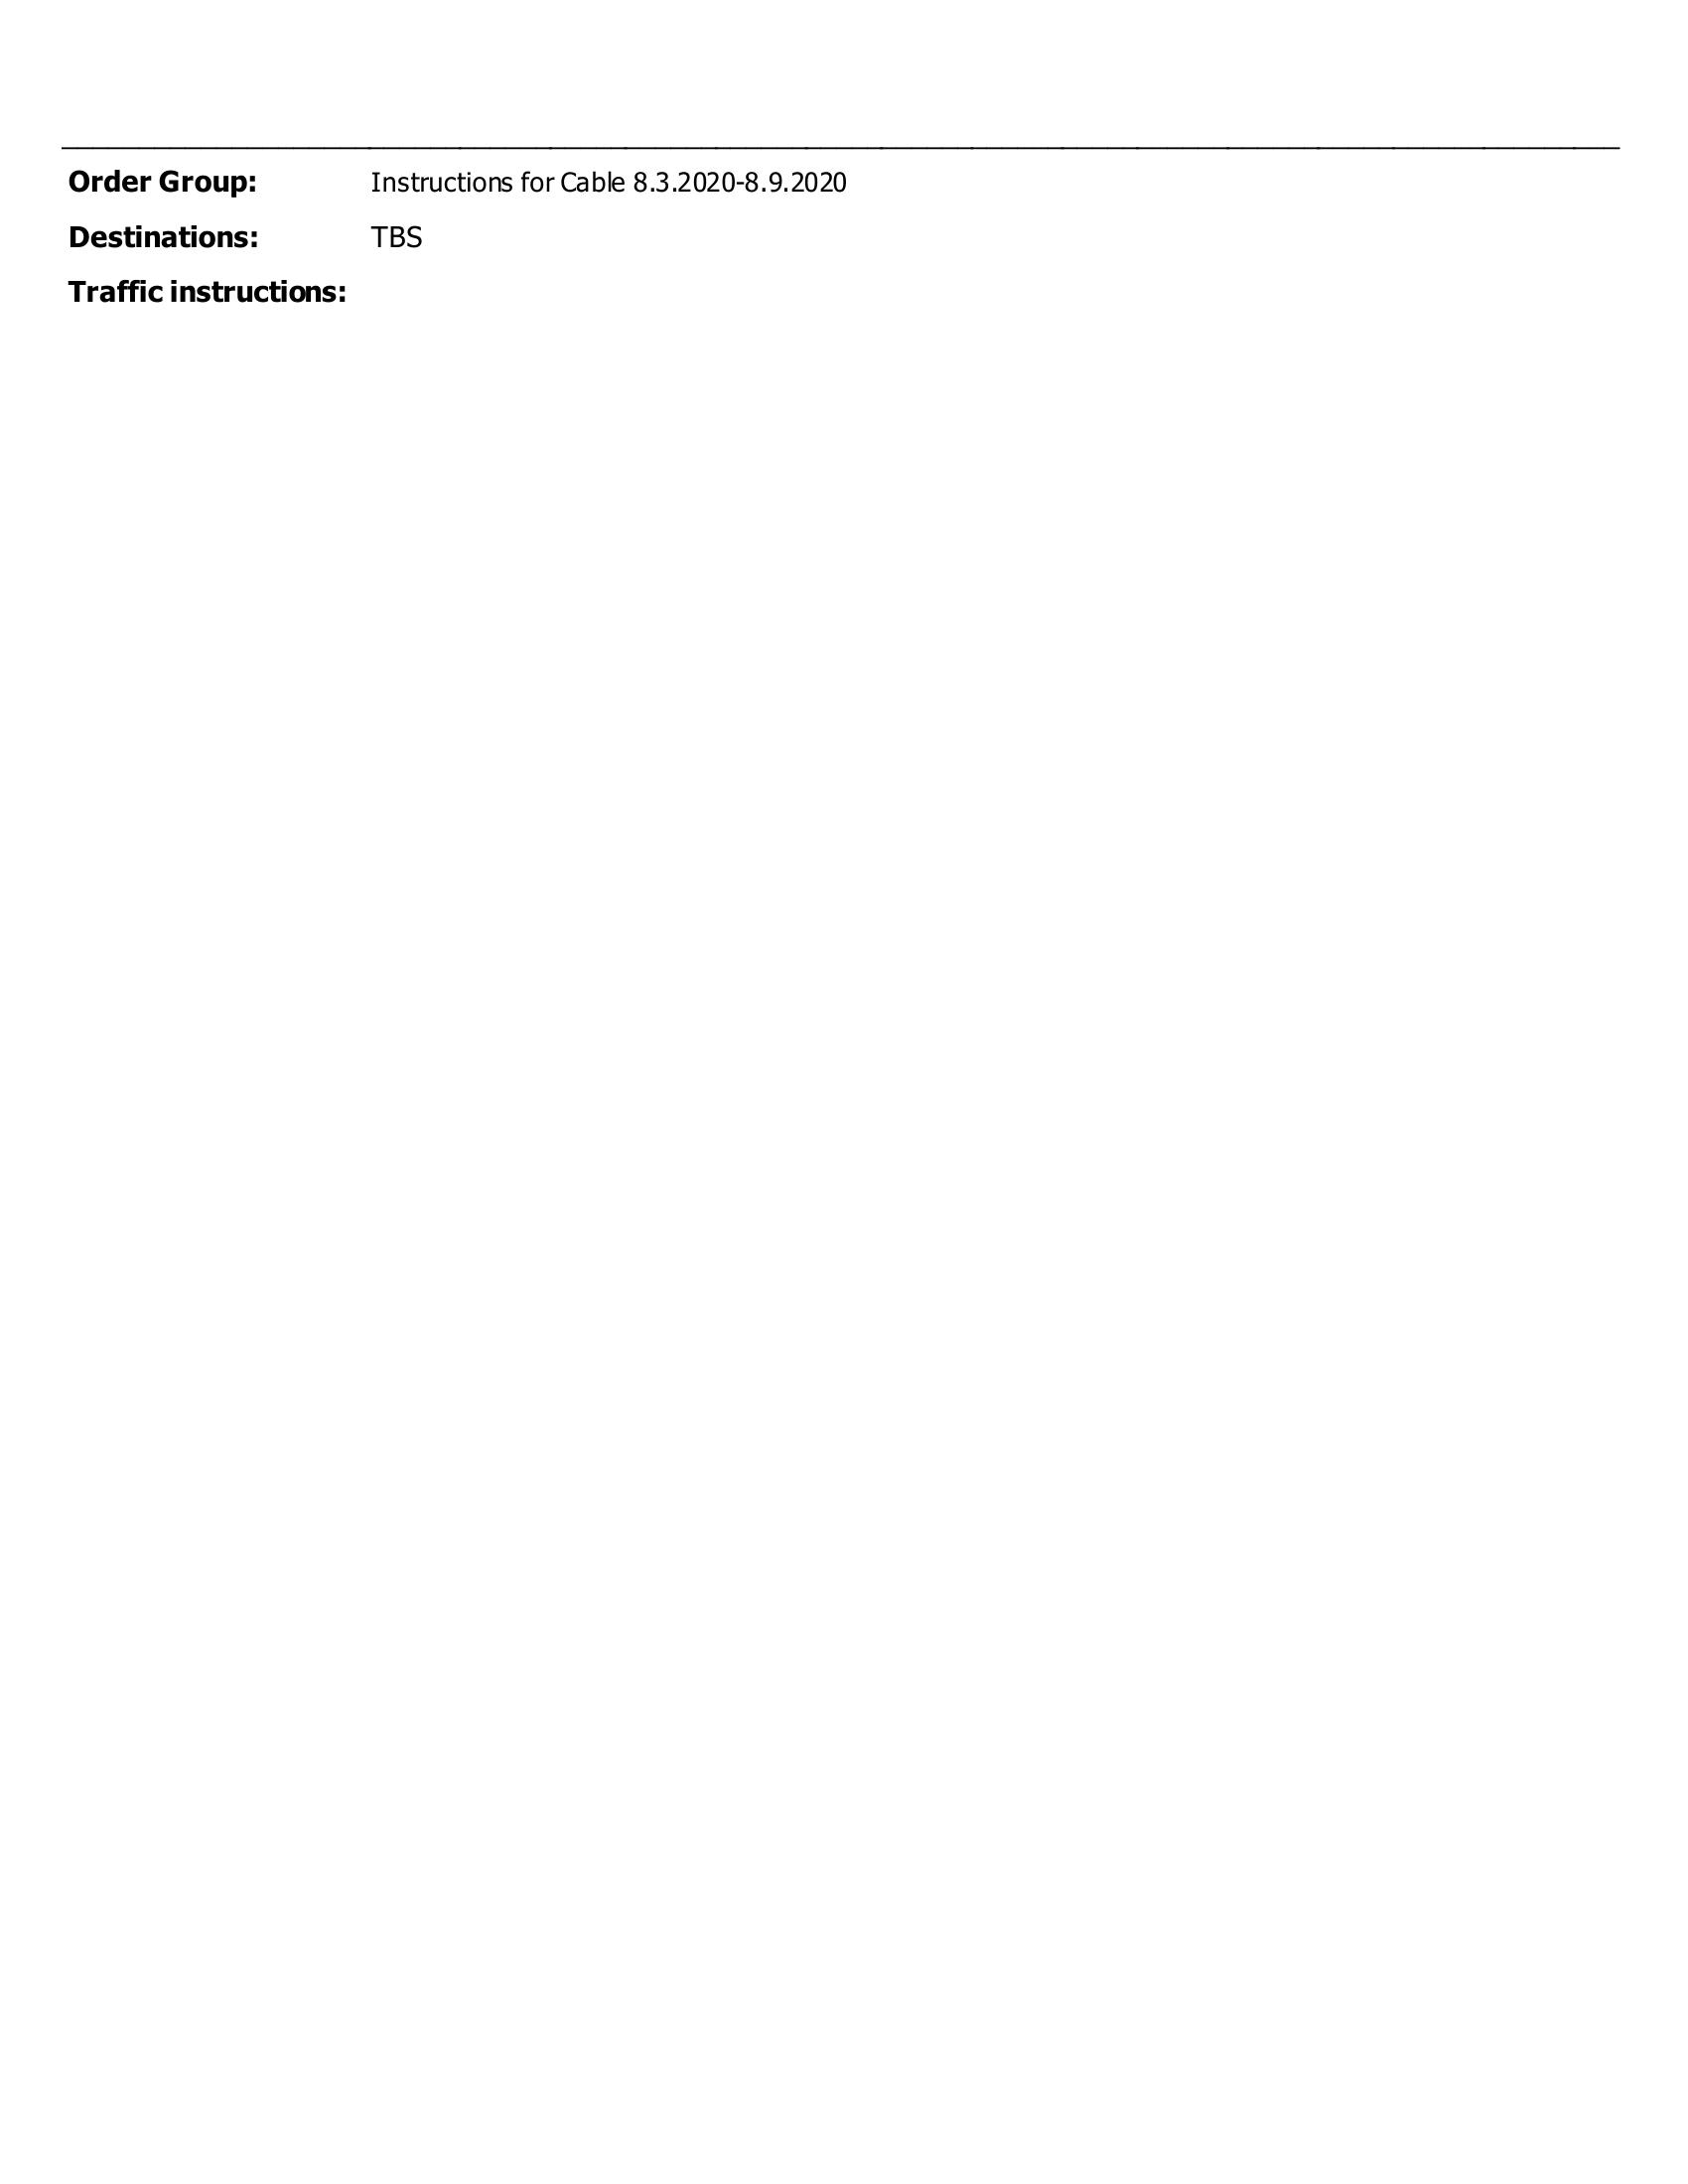table: (43, 156, 865, 321)
